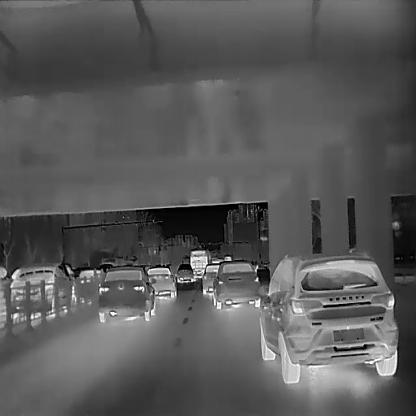bus: (188, 248, 210, 278)
car: (255, 246, 398, 384), (9, 261, 73, 317), (97, 263, 155, 322), (209, 259, 261, 308), (72, 265, 104, 305), (144, 262, 176, 298), (200, 262, 222, 293), (175, 262, 193, 284)
